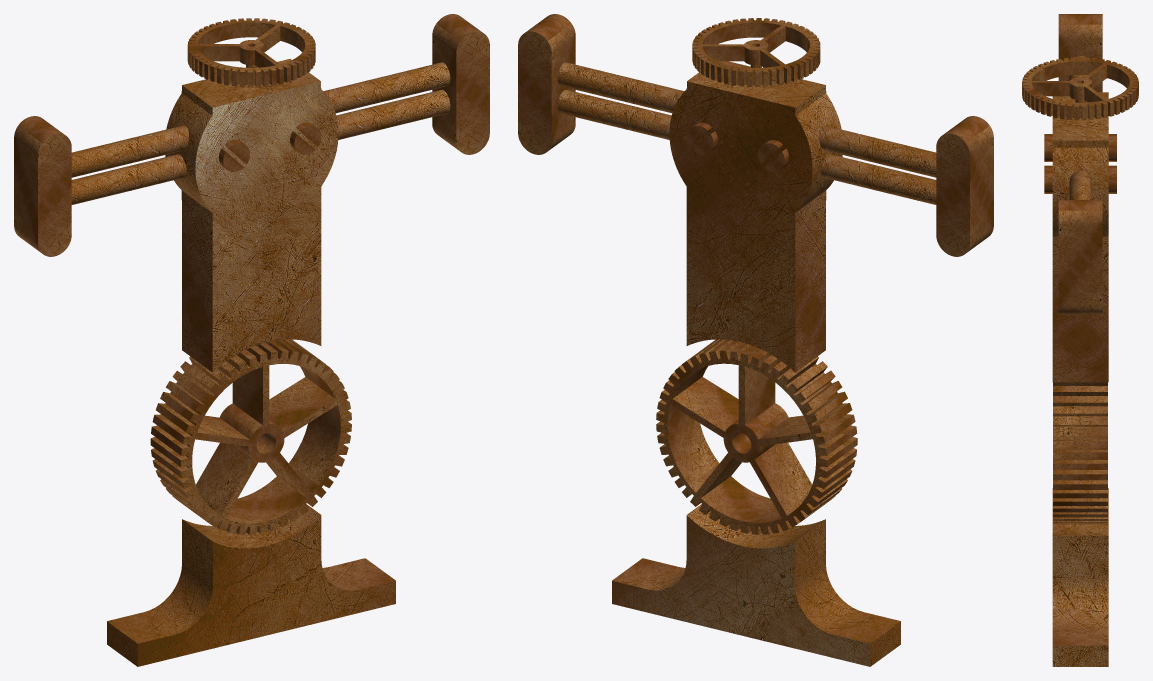
The picture shows the model from 3 angles, left to right: view 1: azimuth 30°, elevation 25°; view 2: azimuth 150°, elevation 25°; view 3: azimuth 270°, elevation 25°; orthographic projection. The views are drawn at different scales.
Parts seen in each view (by area): view 1: R_Elements_021, Cogwheel_228, R_Elements_030, R_Elements_013, Cogwheel_218, R_Elements_022, Tube_352, Tube_354, Screw_803, Screw_802; view 2: R_Elements_021, Cogwheel_228, R_Elements_030, R_Elements_013, Cogwheel_218, R_Elements_022, Tube_352, Tube_354, Screw_803, Screw_802; view 3: R_Elements_021, R_Elements_030, Cogwheel_228, Cogwheel_218, R_Elements_022, R_Elements_013, Tube_352, Screw_803, Screw_802.
Part boxes in pixels (box(x1,y1,x2,y2)): R_Elements_021: box(165, 59, 338, 372); Cogwheel_228: box(150, 339, 351, 534); R_Elements_030: box(107, 504, 395, 666); R_Elements_013: box(14, 116, 71, 256); Cogwheel_218: box(187, 18, 315, 87); R_Elements_022: box(432, 14, 489, 154); Tube_352: box(71, 62, 450, 177); Tube_354: box(71, 89, 450, 204); Screw_803: box(290, 122, 321, 154); Screw_802: box(218, 140, 249, 171); R_Elements_021: box(669, 61, 842, 372); Cogwheel_228: box(656, 339, 857, 534); R_Elements_030: box(612, 504, 900, 666); R_Elements_013: box(936, 116, 993, 256); Cogwheel_218: box(692, 18, 820, 87); R_Elements_022: box(518, 14, 575, 154); Tube_352: box(557, 62, 936, 177); Tube_354: box(557, 89, 936, 204); Screw_803: box(686, 122, 717, 154); Screw_802: box(758, 140, 789, 171); R_Elements_021: box(1052, 92, 1108, 382); R_Elements_030: box(1052, 488, 1108, 666); Cogwheel_228: box(1053, 382, 1107, 524); Cogwheel_218: box(1022, 57, 1138, 120); R_Elements_022: box(1058, 200, 1102, 314); R_Elements_013: box(1058, 14, 1102, 92); Tube_352: box(1069, 56, 1091, 199); Screw_803: box(1044, 165, 1116, 193); Screw_802: box(1044, 134, 1116, 161).
Bounding box in the file's own units: 84.63 × 104 × 20.79.
Materials: 1 (1 with a texture image).
